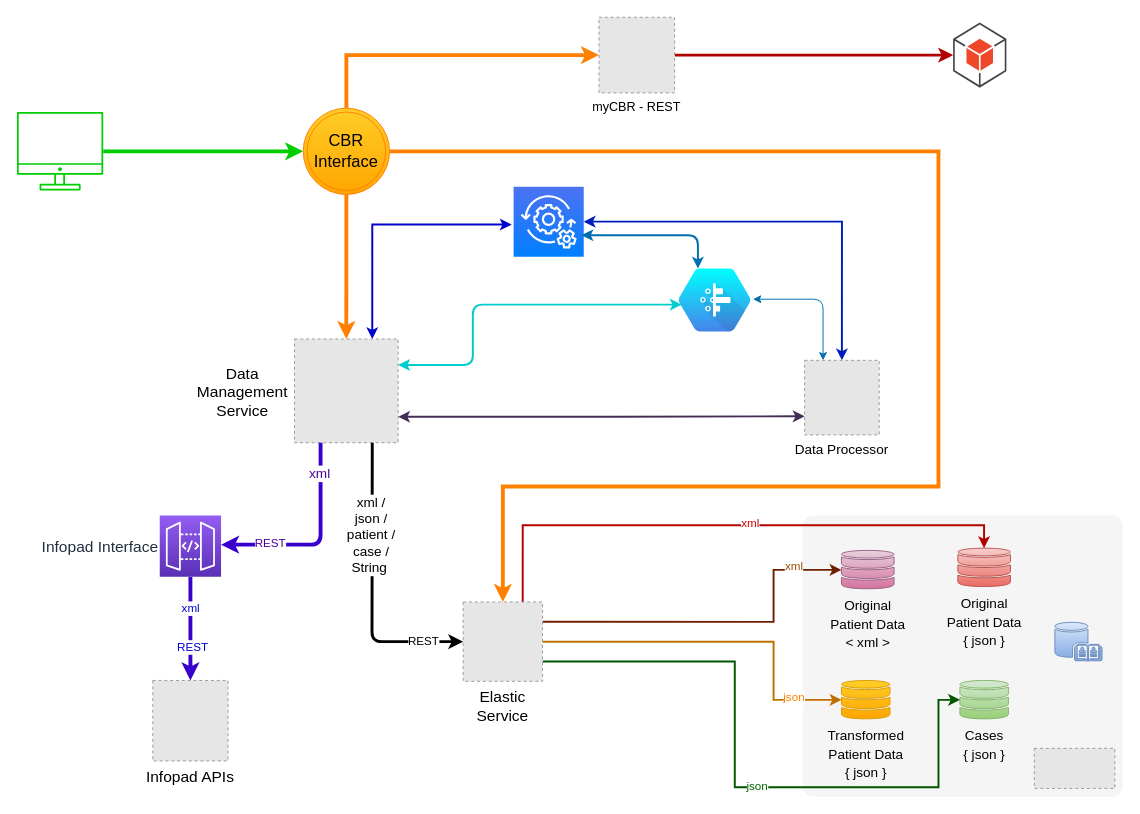
Image size: 1140x814. Some labels were removed from this diagram. Grey dashed boxes stand in for pictures. Each missing label, with the centre of its shape:
"mapping" belongs at [714,299].
"mycbr-sdk" belongs at [979,54].
"SupportPrim UI" belongs at [59,151].
"Transformer" belongs at [548,221].
"User Data" belongs at [1078,641].
